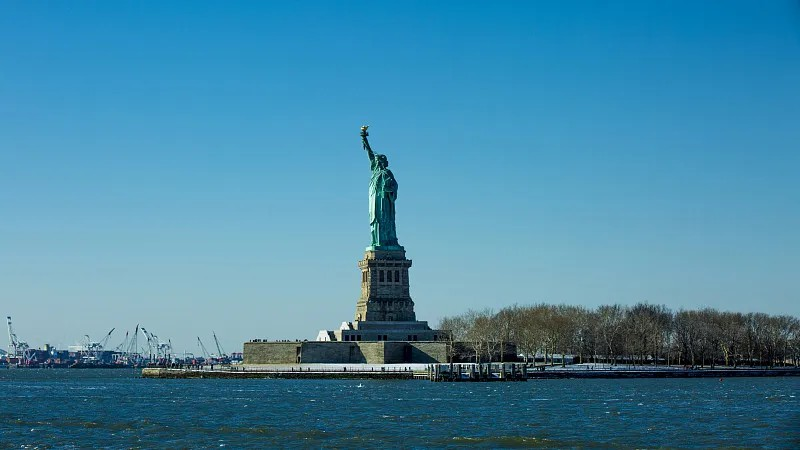SL: (355, 124, 415, 323)
